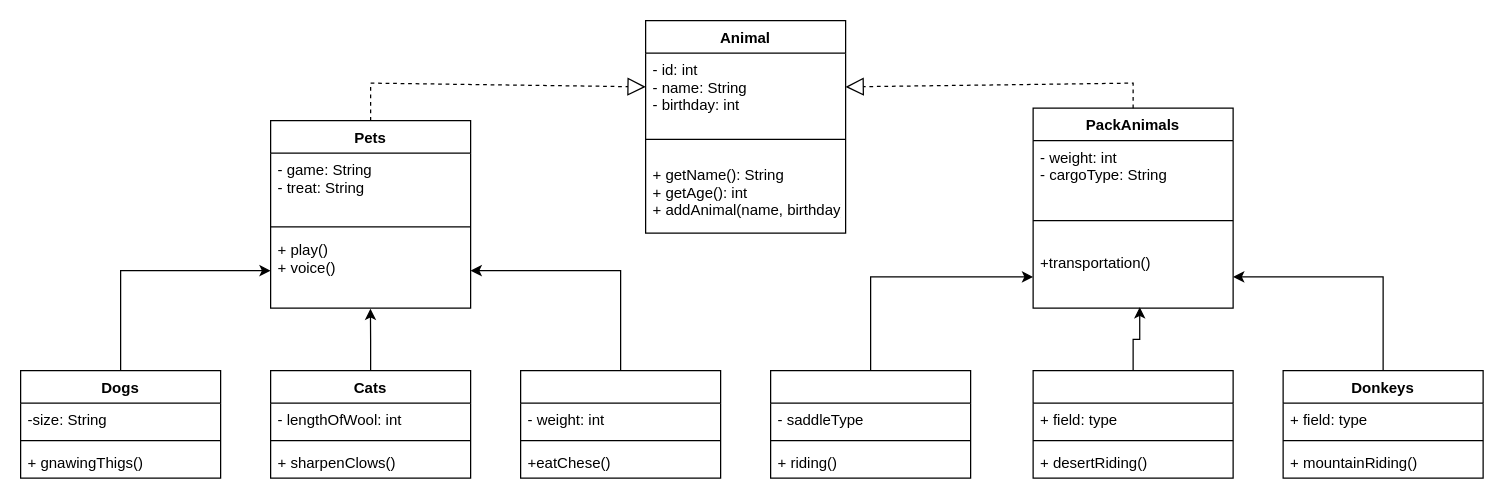
This 1504x499 diagram has some shape labels left out. Here are the shapes that lost their labels. From the top down, the box of each, then its label:
(519, 369, 721, 478): Rats
(769, 369, 971, 478): Horses
(1032, 369, 1233, 478): Camels
